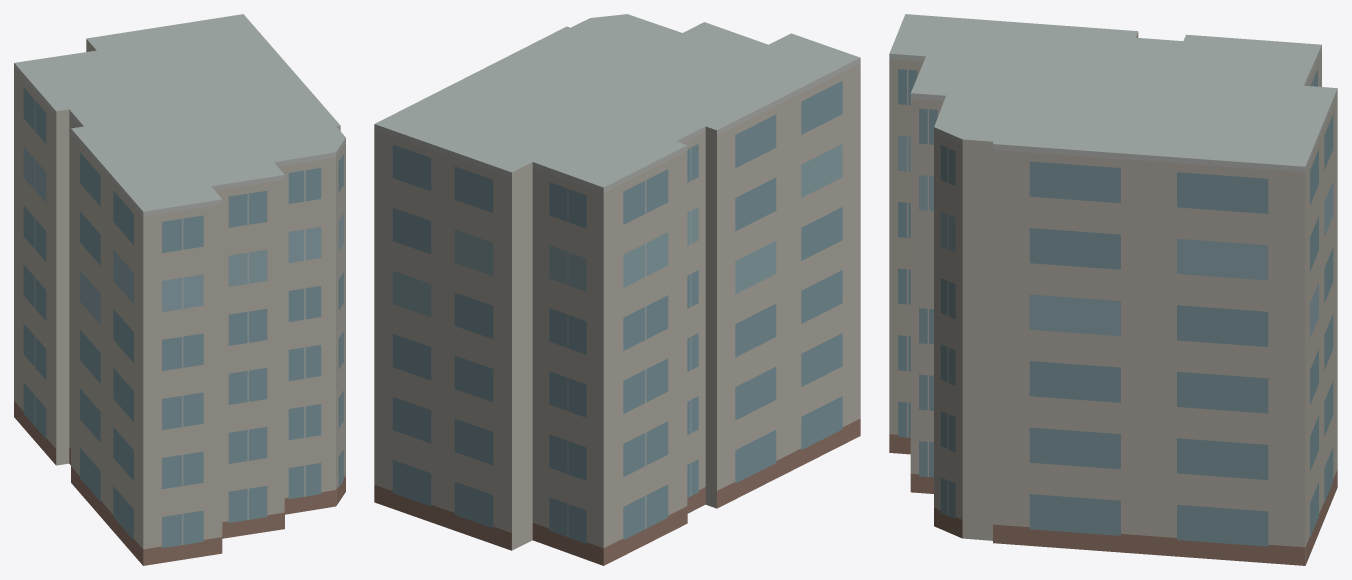
Rendered from survey-upis-32660207.glb.
3 views of the same model, side by side, from view 1: azimuth 30°, elevation 25°; view 2: azimuth 150°, elevation 25°; view 3: azimuth 270°, elevation 25° (orthographic). The views are drawn at different scales.
Visible parts, largest first — view 1: survey-upis-32660207.tmp; view 2: survey-upis-32660207.tmp; view 3: survey-upis-32660207.tmp.
Boxes of the visible parts, left/top/right/bottom form: survey-upis-32660207.tmp: left=14, top=14, right=345, bottom=565; survey-upis-32660207.tmp: left=374, top=14, right=860, bottom=565; survey-upis-32660207.tmp: left=889, top=14, right=1337, bottom=565.
Size of the model in its own units: 13.88 by 16.9 by 17.21.
